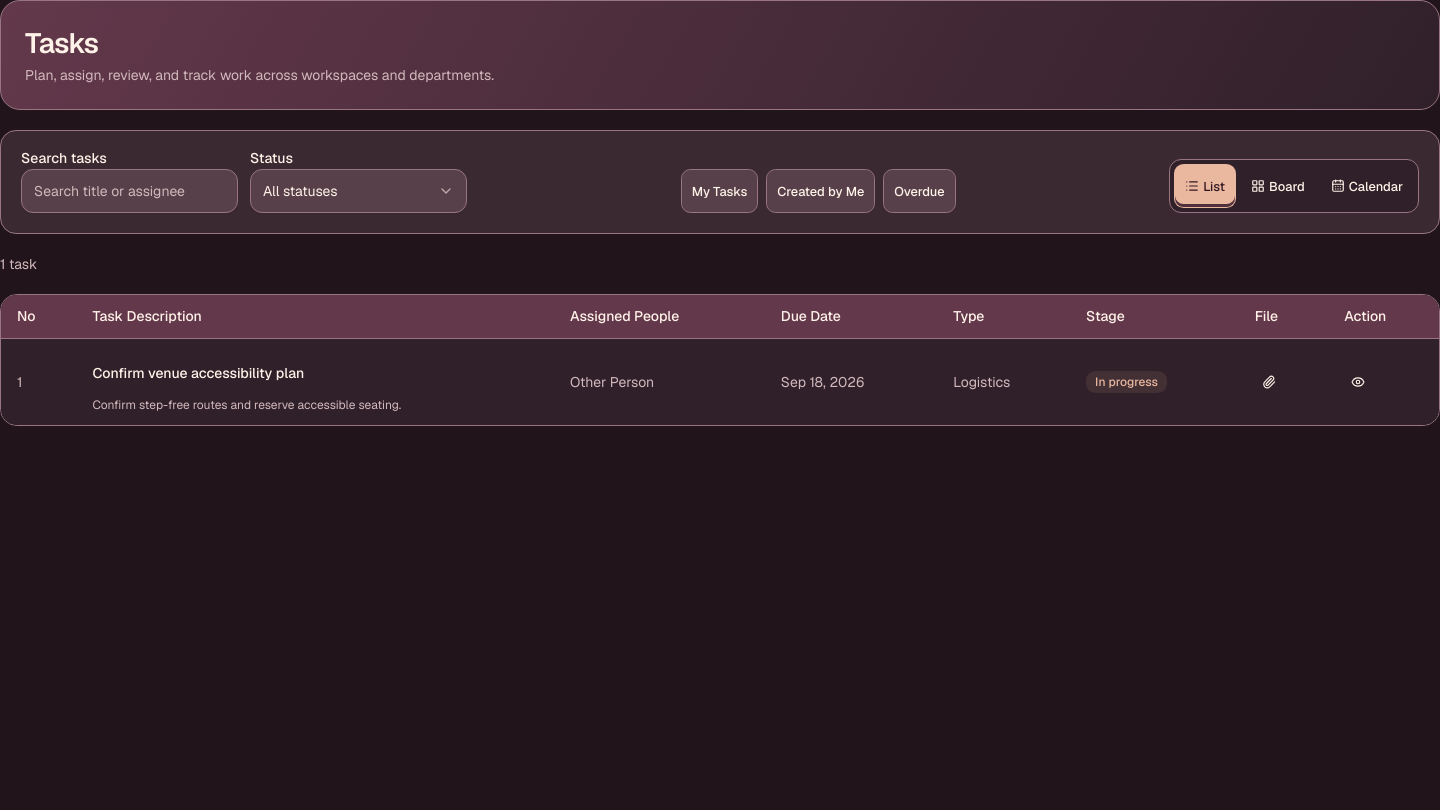
it: TasksManager › hides the assignee-only self-report controls from a Manager who created but is not assigned to the task
Click the button "Confirm venue accessibility plan".
click(198, 373)  # box x1=92 y1=351 x2=304 y2=395
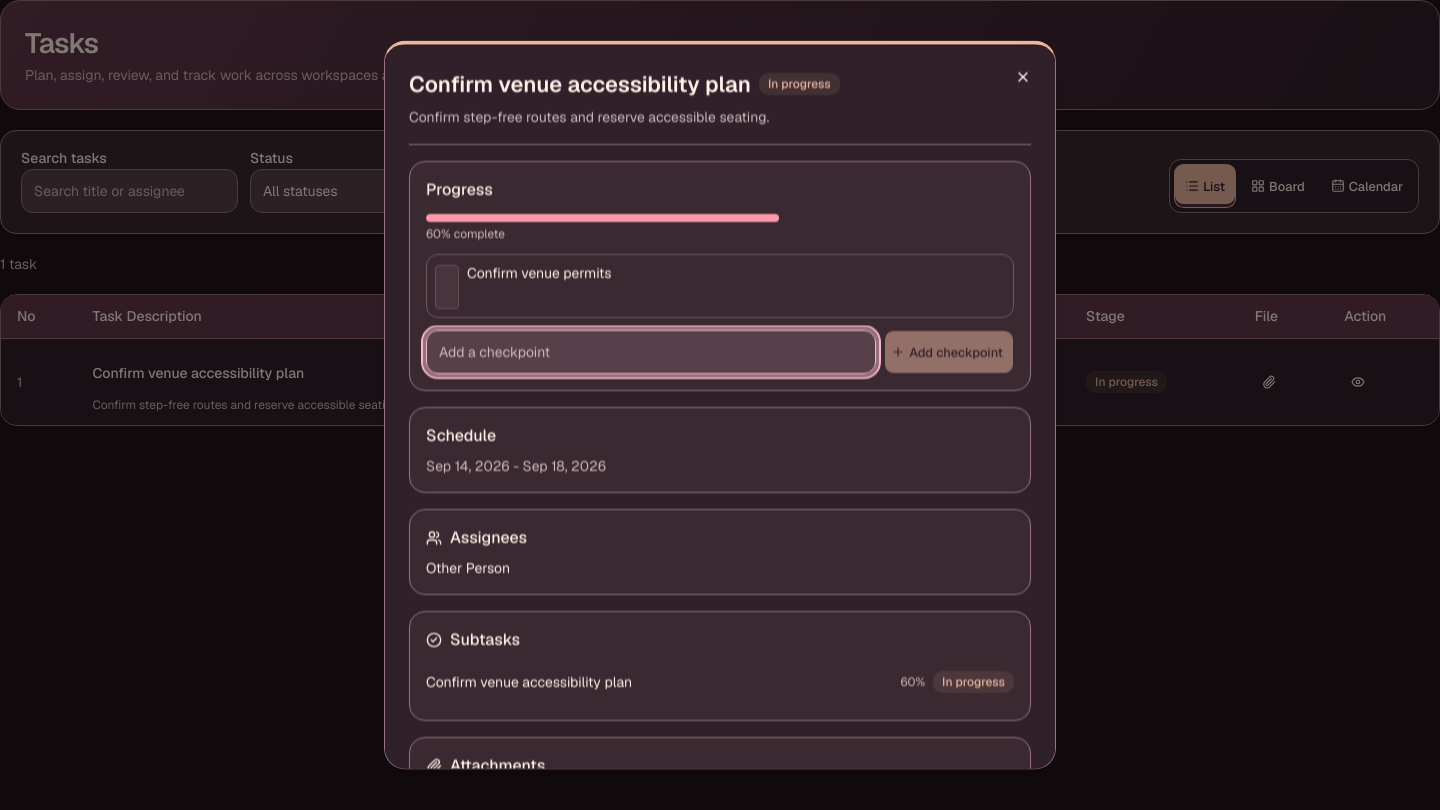
Now the dialog is shown, box x1=384 y1=40 x2=1056 y2=770
Now the checkbox named "Mark \"Confirm venue permits\" complete" is disabled, box x1=435 y1=265 x2=459 y2=309
